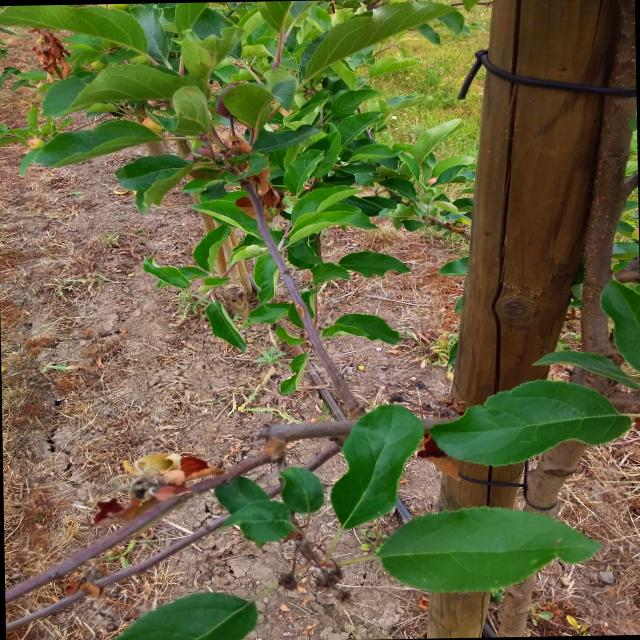-FireBlight-: (96, 456, 210, 506), (217, 128, 273, 228), (29, 28, 66, 86)
